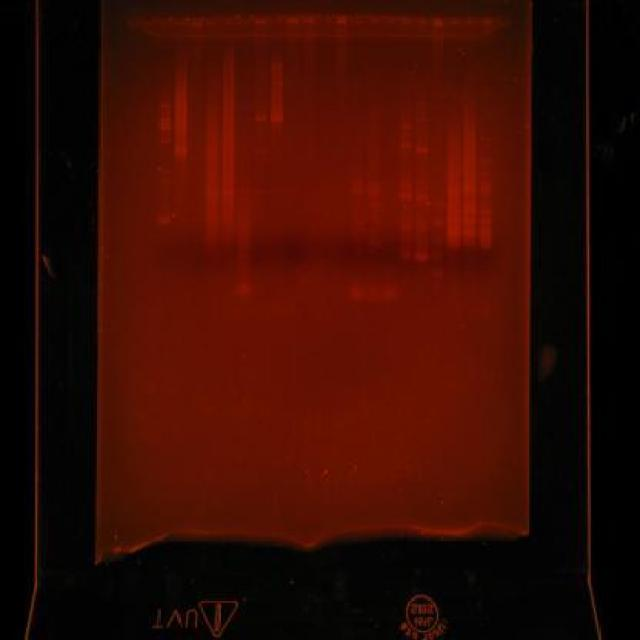B: (347, 284, 365, 301), (235, 280, 252, 298), (382, 286, 398, 303), (366, 286, 380, 302), (431, 268, 446, 281), (414, 252, 430, 262), (462, 232, 478, 240), (478, 217, 492, 226), (270, 114, 284, 123), (398, 192, 413, 200), (414, 177, 429, 185), (398, 252, 412, 260), (398, 216, 412, 224), (414, 217, 428, 225), (414, 192, 428, 200), (398, 182, 412, 190), (430, 218, 444, 226), (478, 157, 492, 165), (478, 208, 492, 216), (461, 218, 477, 225), (446, 216, 460, 224), (447, 208, 461, 216), (351, 187, 364, 195), (254, 115, 268, 122), (461, 188, 477, 194), (461, 182, 477, 188), (461, 210, 477, 216), (254, 148, 266, 156), (398, 224, 412, 230), (414, 226, 428, 232), (414, 201, 428, 207), (416, 184, 430, 190), (414, 147, 428, 153), (398, 143, 412, 149), (478, 188, 492, 194), (478, 170, 492, 176), (350, 182, 364, 188), (446, 188, 460, 194), (446, 182, 460, 188), (399, 124, 412, 130), (415, 117, 428, 123), (175, 217, 188, 223), (480, 136, 492, 142), (368, 187, 380, 193), (174, 152, 188, 157), (446, 204, 462, 208), (478, 184, 493, 188), (368, 182, 380, 187), (174, 148, 188, 152), (174, 122, 188, 126), (174, 118, 188, 122), (174, 100, 188, 103), (174, 126, 188, 129), (415, 102, 428, 105)
L: (154, 12, 514, 32)
M: (154, 93, 173, 229)
P: (157, 217, 171, 226), (158, 102, 171, 109), (158, 170, 172, 176), (158, 116, 172, 122), (158, 124, 171, 130), (158, 138, 171, 142), (158, 122, 171, 126)
Pc: (335, 14, 348, 26), (188, 17, 202, 28), (173, 17, 187, 28), (417, 16, 431, 27), (496, 17, 510, 28), (302, 16, 316, 26), (286, 16, 300, 26), (384, 16, 398, 26), (432, 18, 446, 28), (222, 16, 235, 26), (239, 16, 252, 26), (368, 14, 381, 24), (401, 16, 414, 26), (206, 20, 222, 28), (254, 18, 268, 27), (269, 18, 283, 26), (160, 17, 172, 26), (448, 17, 460, 26), (352, 16, 365, 24), (465, 18, 478, 26), (320, 16, 332, 24), (482, 18, 493, 26)
